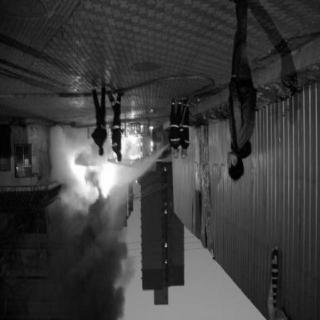Fire: (70, 126, 156, 202)
Smoke: (41, 189, 125, 311)
